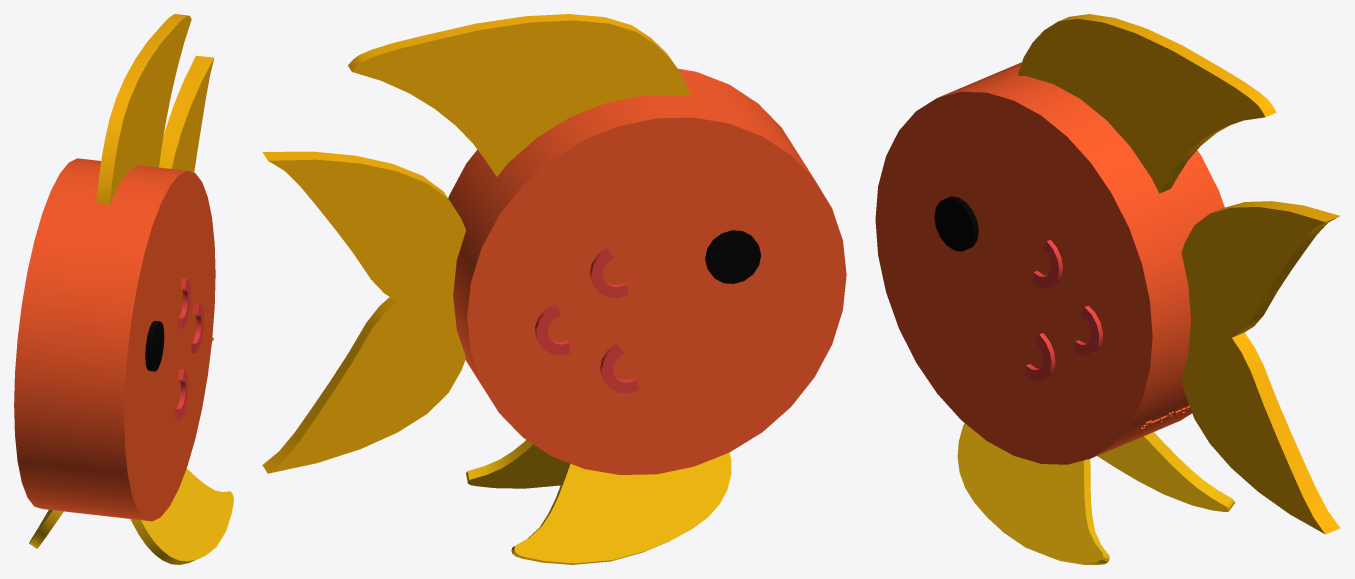
File: tropical_fish.fbx
3 views of the same model, side by side, from view 1: azimuth 30°, elevation 25°; view 2: azimuth 150°, elevation 25°; view 3: azimuth 270°, elevation 25° (orthographic). The views are drawn at different scales.
Visible parts, largest first — view 1: Circle.1969; view 2: Circle.1969; view 3: Circle.1969.
Boxes of the visible parts, <box> form: Circle.1969: <box>14,14,233,564</box>; Circle.1969: <box>262,14,846,564</box>; Circle.1969: <box>875,14,1339,564</box>.
Bounding box in the file's own units: 177 × 214 × 177.
Materials: 1 (1 with a texture image).
